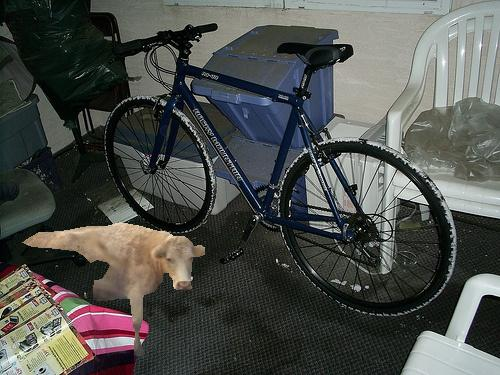tampered: (23, 223, 205, 356)
